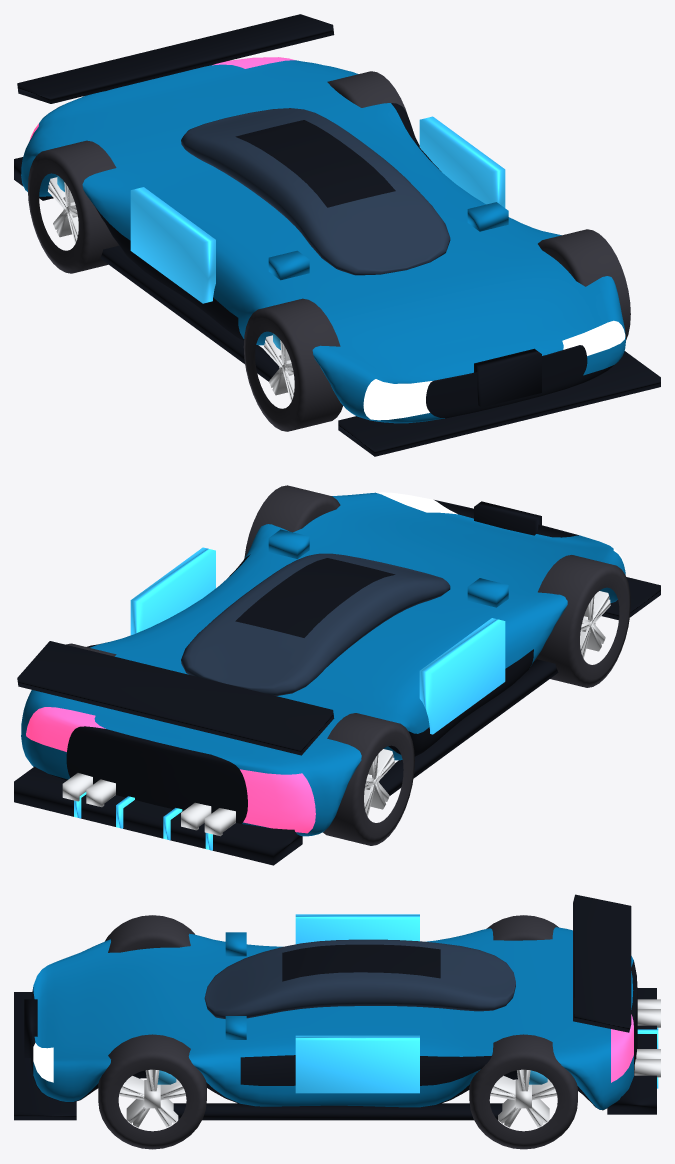
File: badshah_1600.glb
3 renders of one model, top to bottom at view 1: azimuth 30°, elevation 25°; view 2: azimuth 150°, elevation 25°; view 3: azimuth 270°, elevation 25°, orthographic. The views are drawn at different scales.
Visible parts, largest first — view 1: Chassis, Wheel_FR, Wheel_RR, Wheel_FL, Wheel_RL; view 2: Chassis, Wheel_FR, Wheel_RR, Wheel_FL; view 3: Chassis, Wheel_FL, Wheel_RL, Wheel_FR, Wheel_RR.
Boxes of the visible parts, box(x1,y1,x2,y2) form: Chassis: box(14, 14, 660, 456); Wheel_FR: box(243, 298, 342, 431); Wheel_RR: box(27, 140, 119, 273); Wheel_FL: box(538, 229, 630, 339); Wheel_RL: box(327, 71, 407, 113); Chassis: box(14, 492, 660, 865); Wheel_FR: box(534, 555, 630, 687); Wheel_RR: box(323, 713, 414, 845); Wheel_FL: box(244, 485, 340, 558); Chassis: box(14, 894, 660, 1120); Wheel_FL: box(98, 1034, 206, 1149); Wheel_RL: box(469, 1034, 577, 1149); Wheel_FR: box(105, 915, 194, 952); Wheel_RR: box(486, 915, 558, 940).
Size of the model in its own units: 2.5 by 1.08 by 4.95.
